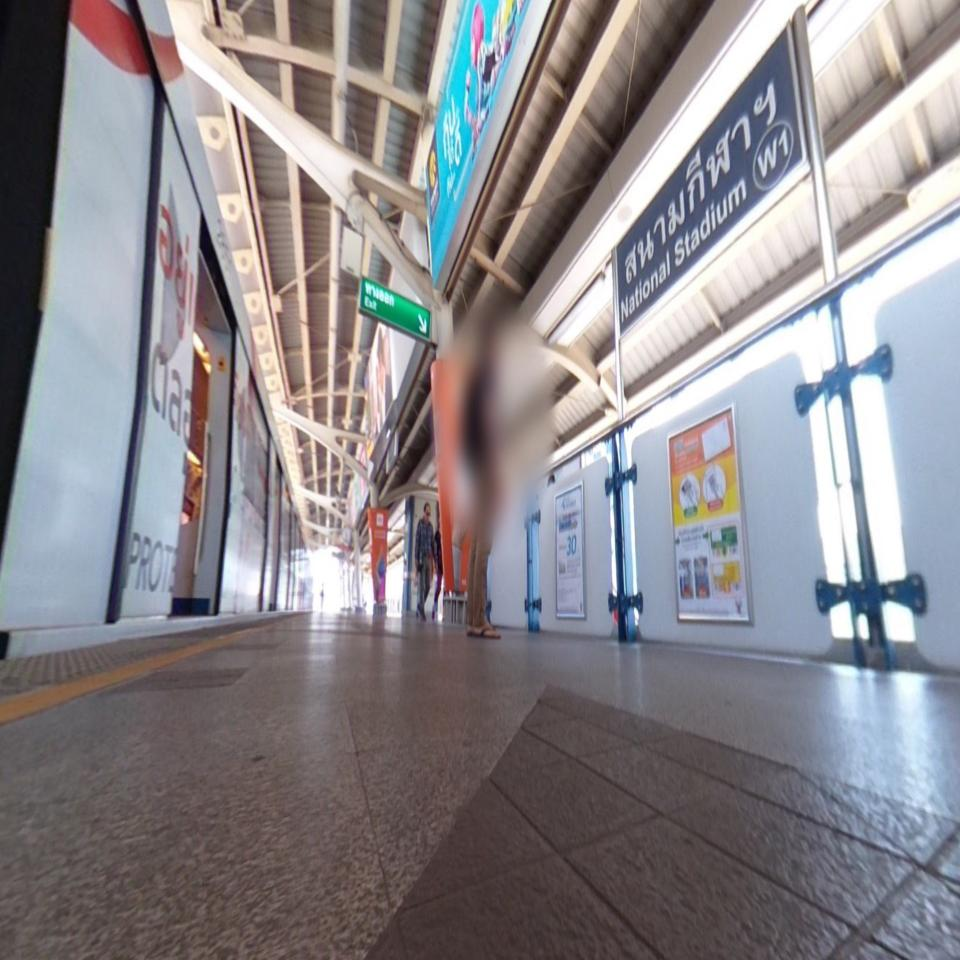National Stadium: (614, 17, 813, 341)
